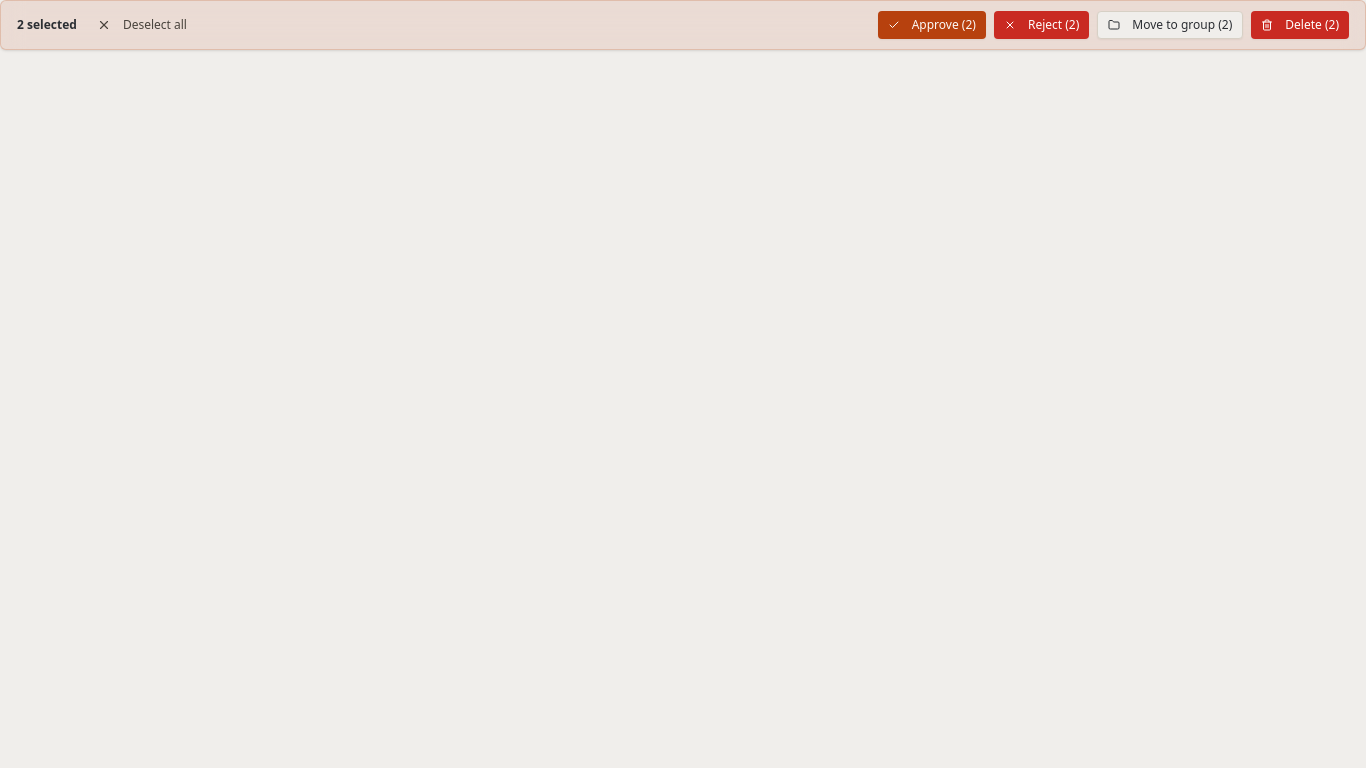
Test: BulkActionBar Move to Group and Delete › Mass approval reports placed in groups and need a group choice counts without opening conflict dialog
Click the button "Approve (2)".
click(932, 25)  # box [878, 11, 986, 39]
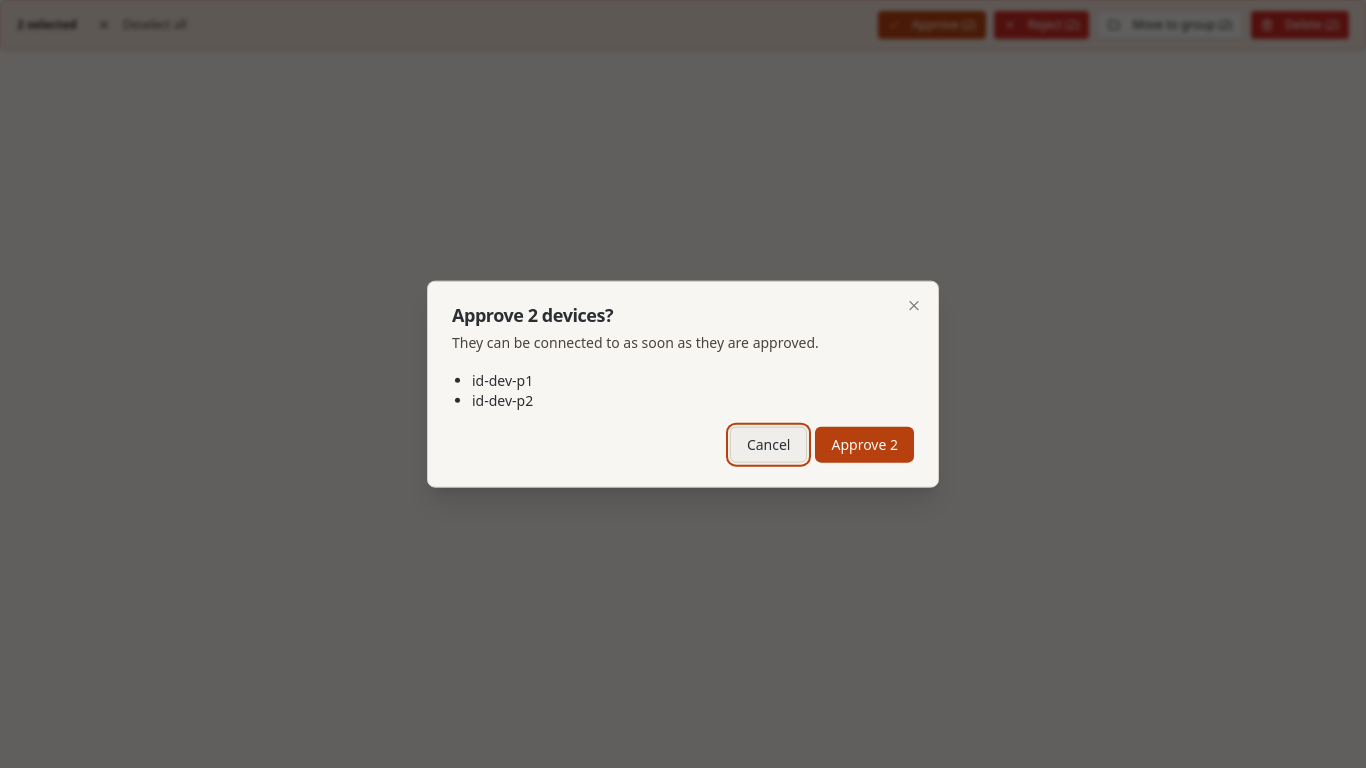
Check: the button "Approve 2" is shown
Click the button "Approve 2".
click(865, 444)  # box [816, 426, 914, 462]
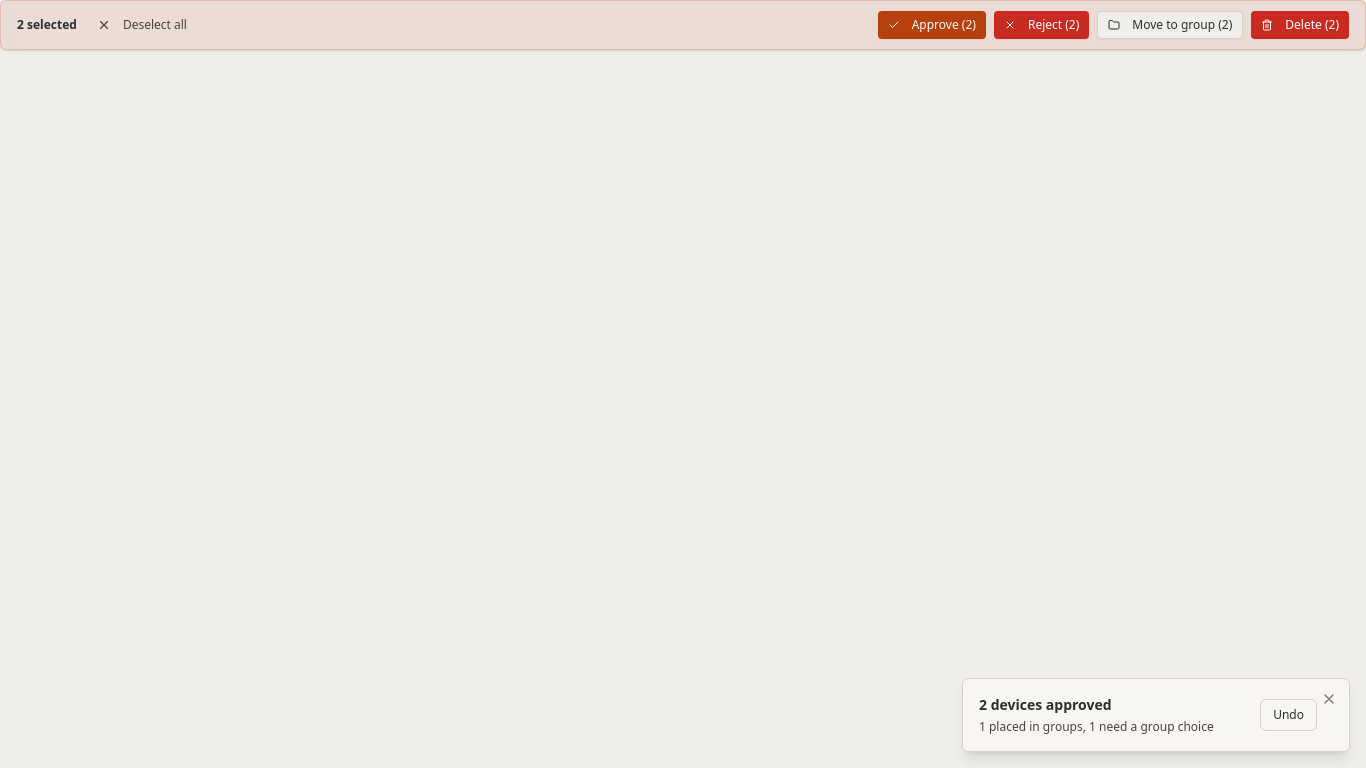
Check: the text "1 placed in groups, 1 need a group choice" is shown, box [979, 719, 1214, 735]
